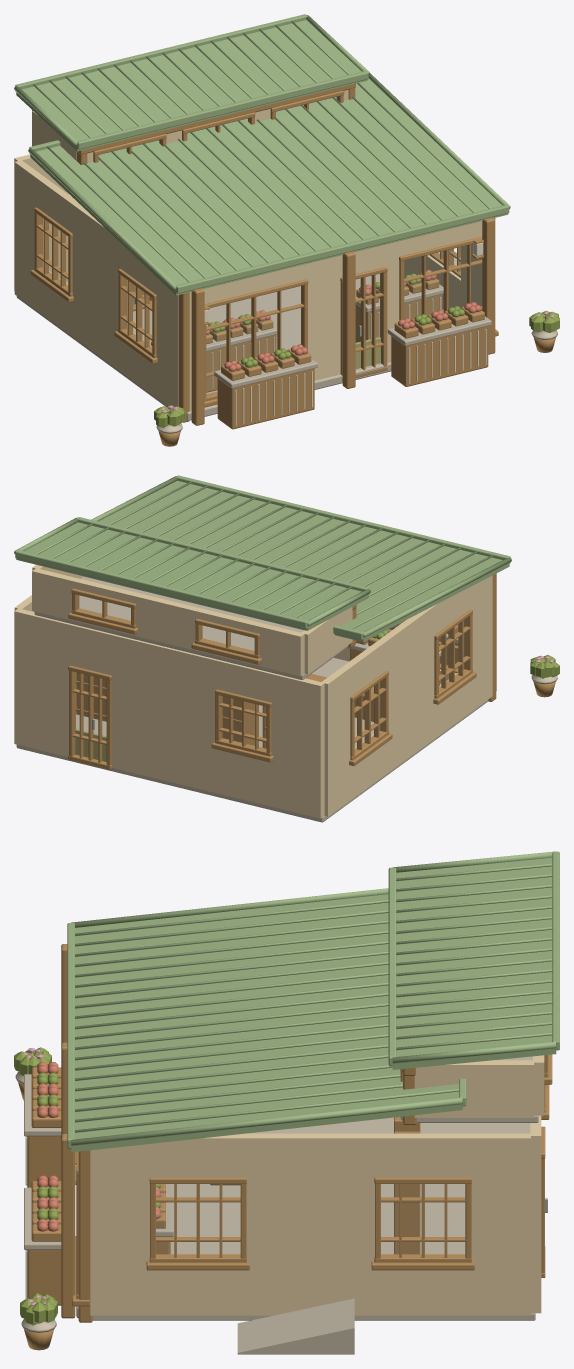
3 renders of one model, top to bottom at view 1: azimuth 30°, elevation 25°; view 2: azimuth 150°, elevation 25°; view 3: azimuth 270°, elevation 25°, orthographic. The views are drawn at different scales.
Visible parts, largest first — view 1: SM_12_02_曲面屋顶, SM_12_01_建筑墙体, SM_12_06_景观设施, SM_12_04_门窗楼梯, SM_12_03_木构回廊, SM_12_05_景观植物; view 2: SM_12_01_建筑墙体, SM_12_02_曲面屋顶, SM_12_04_门窗楼梯, SM_12_06_景观设施, SM_12_05_景观植物, SM_12_03_木构回廊; view 3: SM_12_02_曲面屋顶, SM_12_01_建筑墙体, SM_12_04_门窗楼梯, SM_12_06_景观设施, SM_12_03_木构回廊, SM_12_05_景观植物.
Part boxes in pixels (bbox=[...]): SM_12_02_曲面屋顶: bbox=[14, 14, 510, 295]; SM_12_01_建筑墙体: bbox=[14, 89, 482, 420]; SM_12_06_景观设施: bbox=[133, 270, 491, 429]; SM_12_04_门窗楼梯: bbox=[30, 90, 498, 407]; SM_12_03_木构回廊: bbox=[76, 83, 495, 425]; SM_12_05_景观植物: bbox=[154, 310, 559, 446]; SM_12_01_建筑墙体: bbox=[14, 564, 492, 822]; SM_12_02_曲面屋顶: bbox=[14, 475, 511, 641]; SM_12_04_门窗楼梯: bbox=[68, 588, 476, 769]; SM_12_06_景观设施: bbox=[76, 621, 458, 748]; SM_12_05_景观植物: bbox=[530, 655, 559, 697]; SM_12_03_木构回廊: bbox=[348, 573, 496, 701]; SM_12_02_曲面屋顶: bbox=[67, 851, 559, 1152]; SM_12_01_建筑墙体: bbox=[76, 1055, 544, 1320]; SM_12_04_门窗楼梯: bbox=[72, 1054, 552, 1354]; SM_12_06_景观设施: bbox=[24, 1062, 420, 1305]; SM_12_03_木构回廊: bbox=[61, 944, 416, 1322]; SM_12_05_景观植物: bbox=[14, 1047, 57, 1350].
Bounding box in the file's own units: 10.72 × 5.19 × 9.34.
